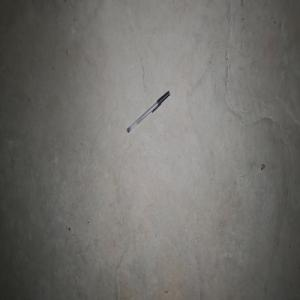Pen: (126, 90, 169, 132)
